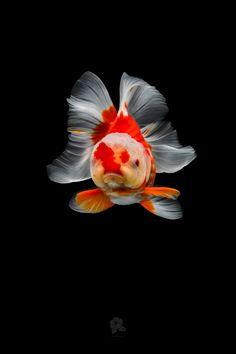goldfish: (42, 76, 212, 233)
